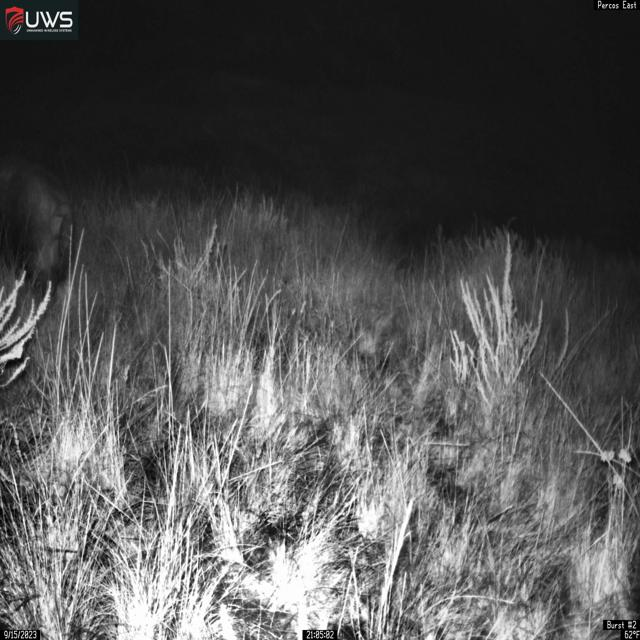pig: (0, 151, 75, 307)
